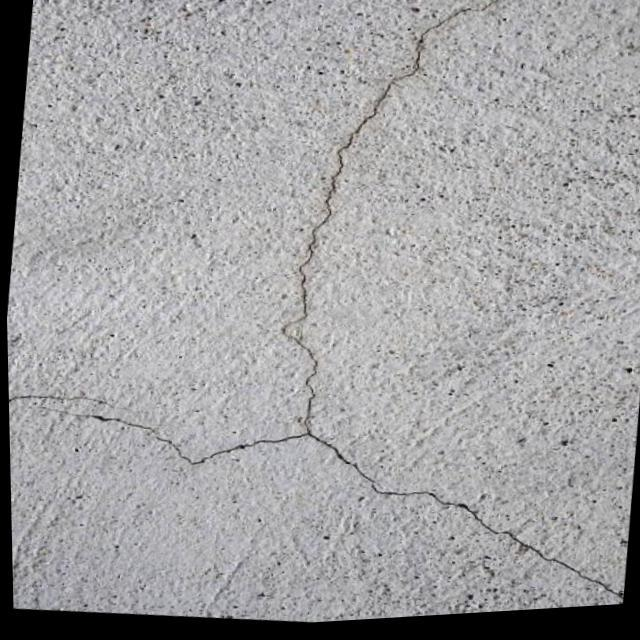Crack: (279, 18, 437, 430), (316, 435, 618, 589), (12, 385, 306, 475)
